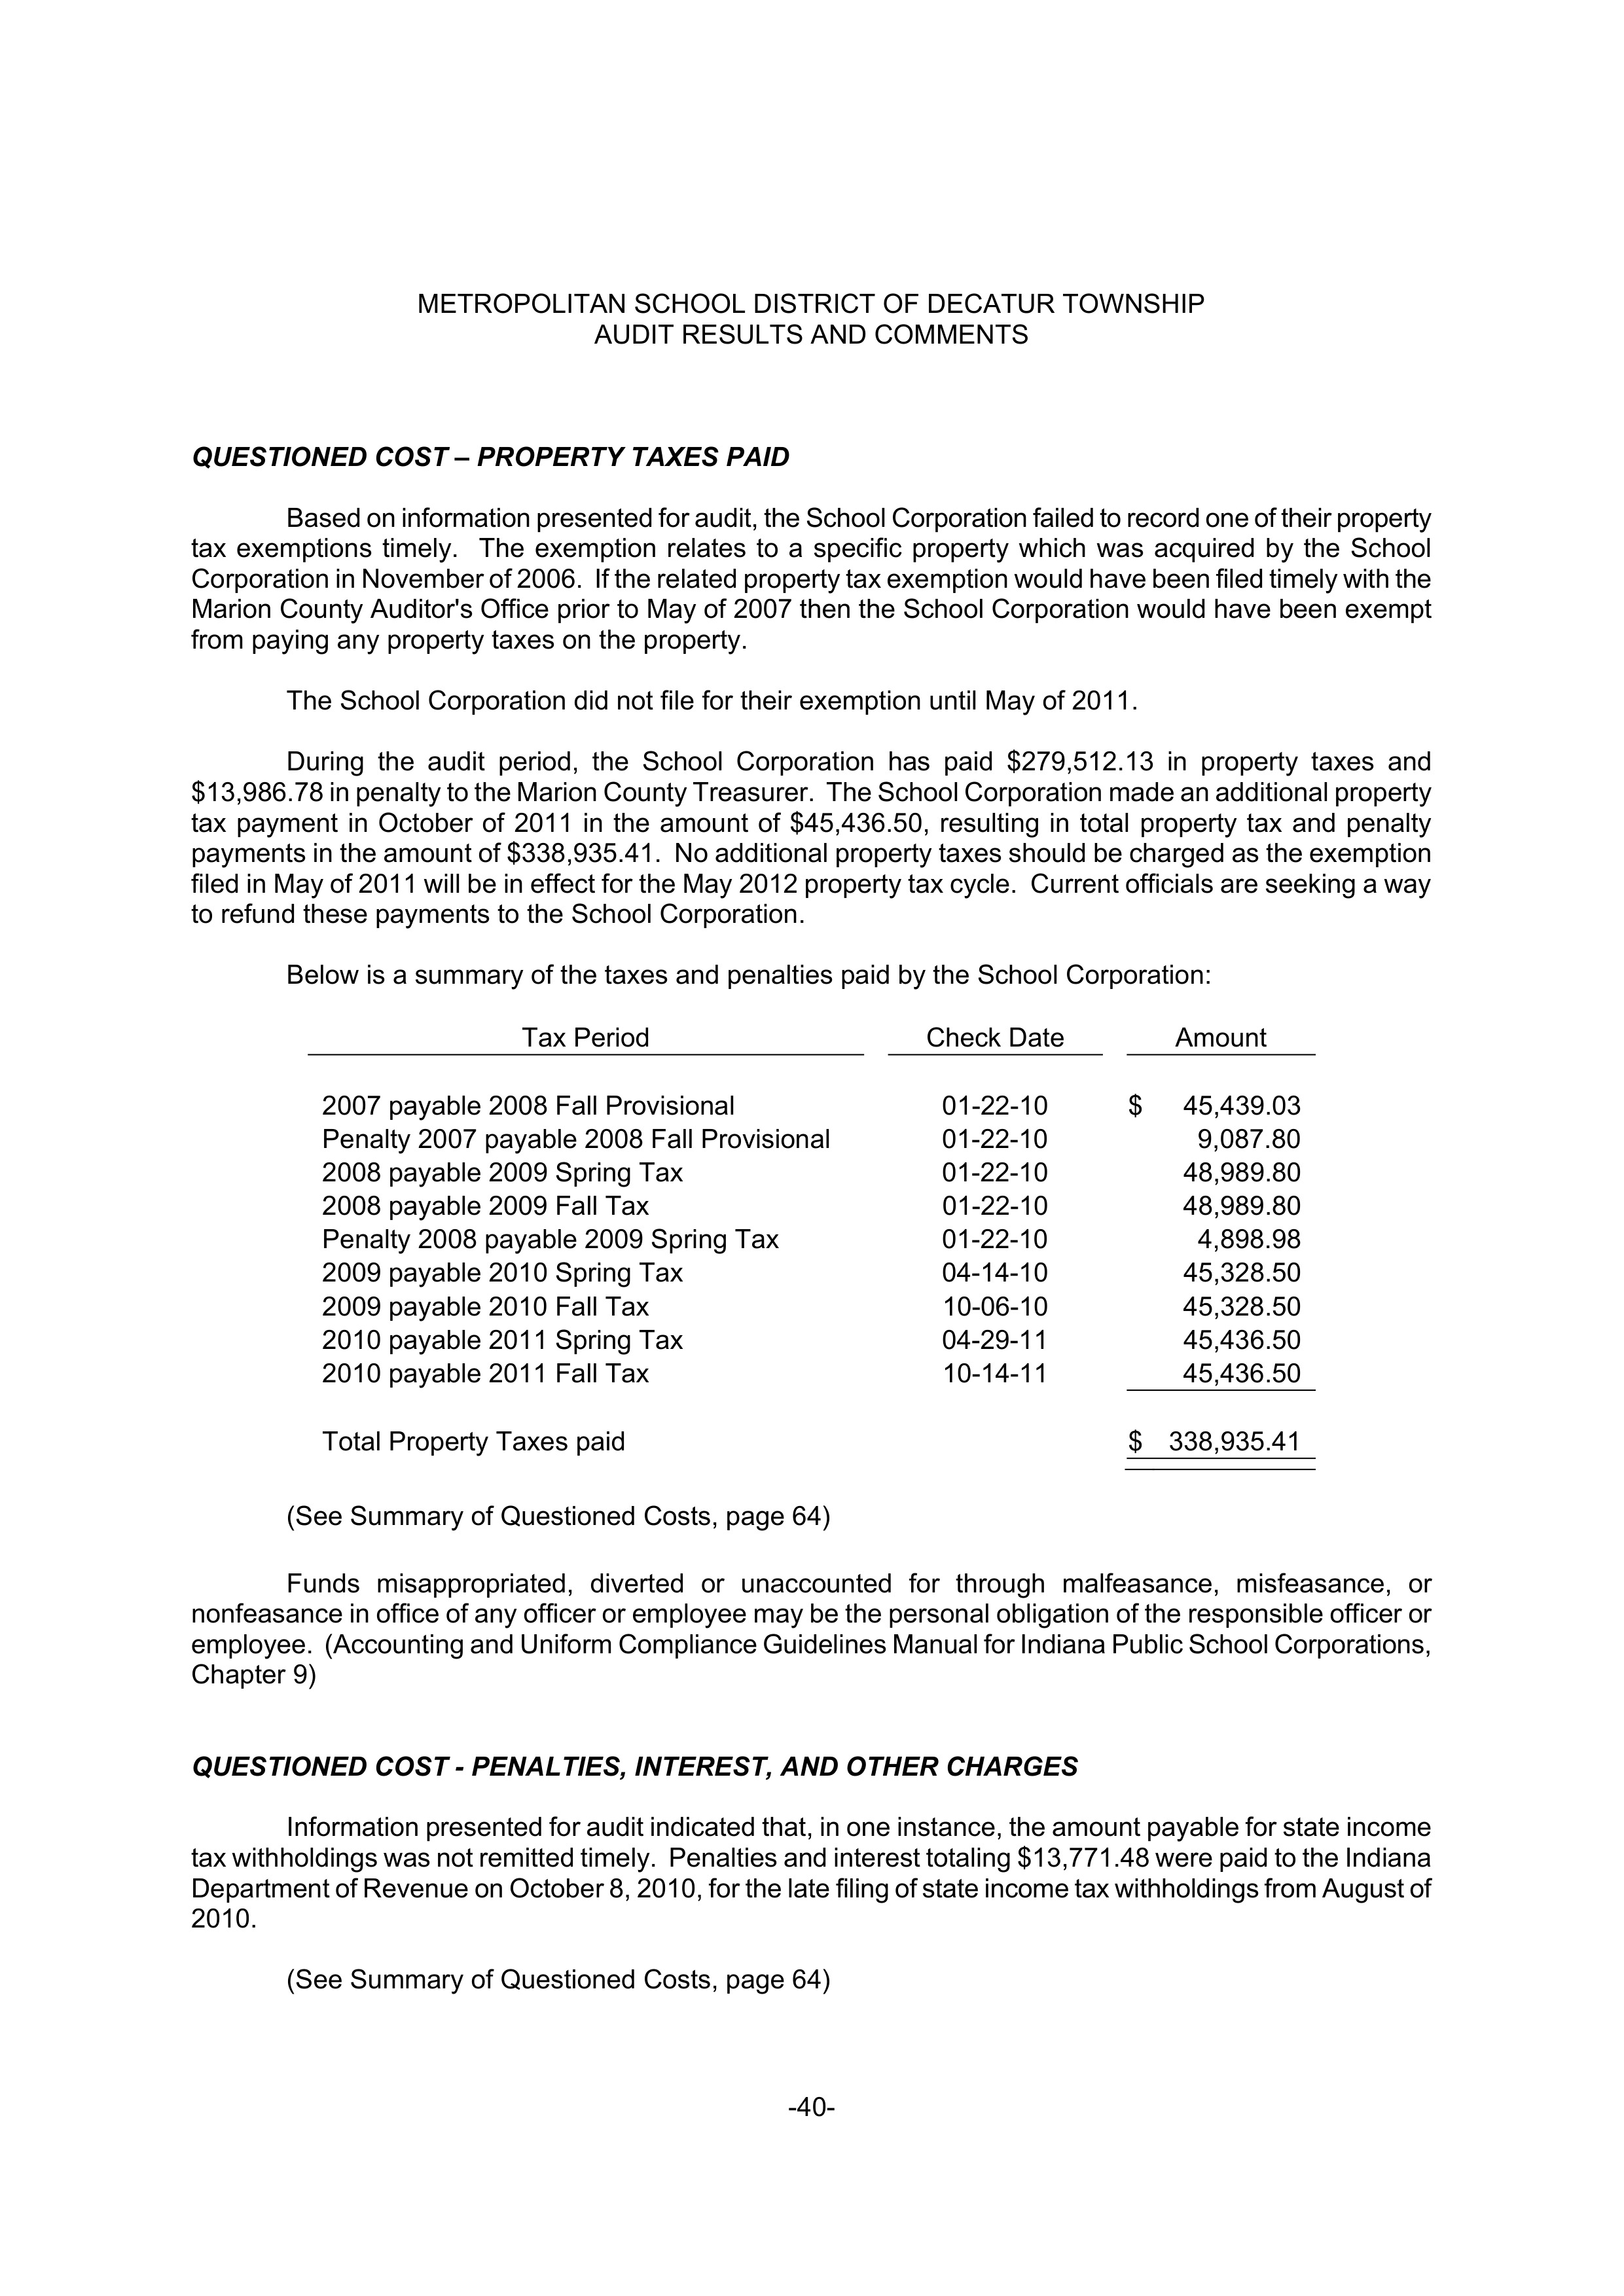table: (322, 1022, 1301, 1456)
